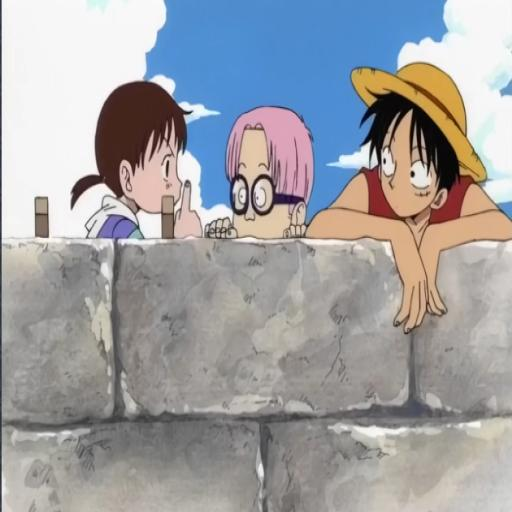Luffy: (304, 53, 507, 308)
